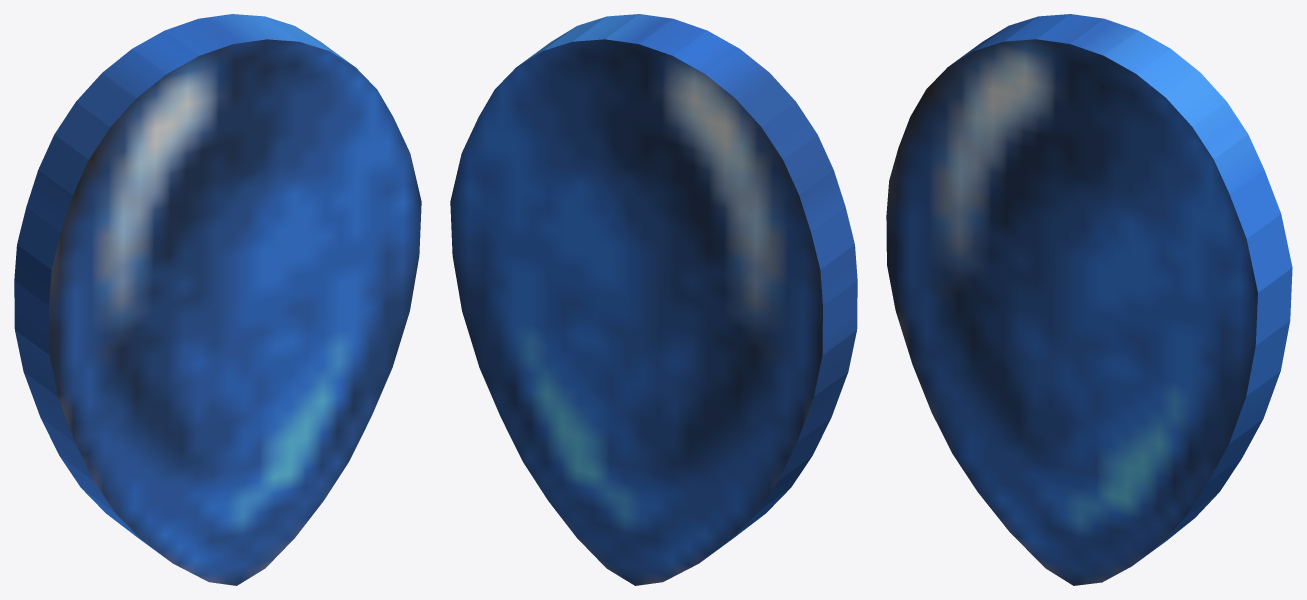
File: Rarity_Rare.glb
The picture shows the model from 3 angles, left to right: view 1: azimuth 30°, elevation 25°; view 2: azimuth 150°, elevation 25°; view 3: azimuth 330°, elevation 25°; orthographic projection.
Visible parts, largest first — view 1: Circle; view 2: Circle; view 3: Circle.
Boxes of the visible parts, <box> form: Circle: <box>14,14,421,585</box>; Circle: <box>450,14,857,585</box>; Circle: <box>886,14,1292,585</box>.
Size of the model in its own units: 0.4969 by 0.6914 by 0.08.
1 material, 1 textured.
